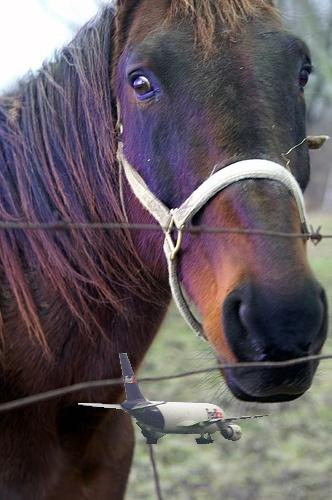tampered: (79, 354, 273, 444)
